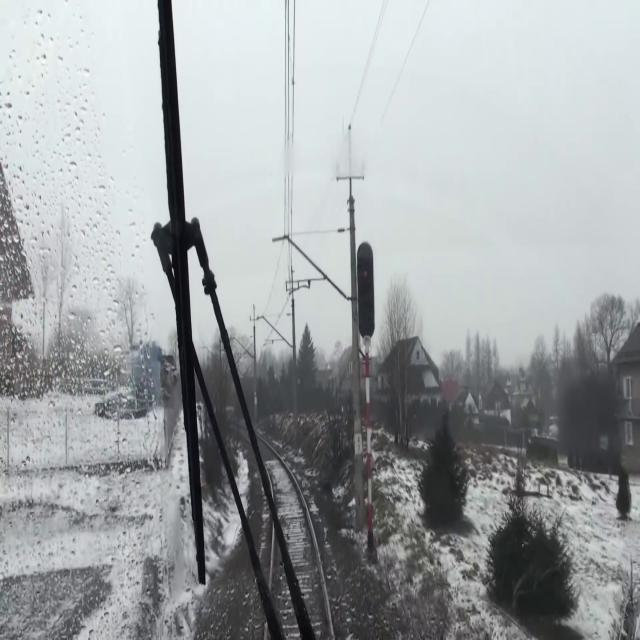rail-track: (277, 460, 329, 636)
